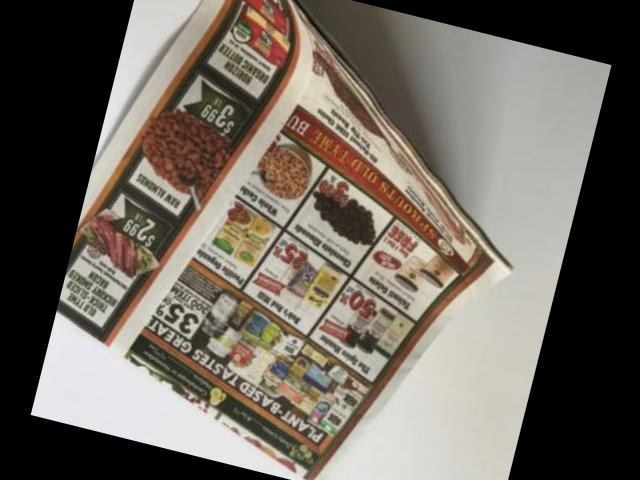cardboard paper: (54, 0, 506, 480)
